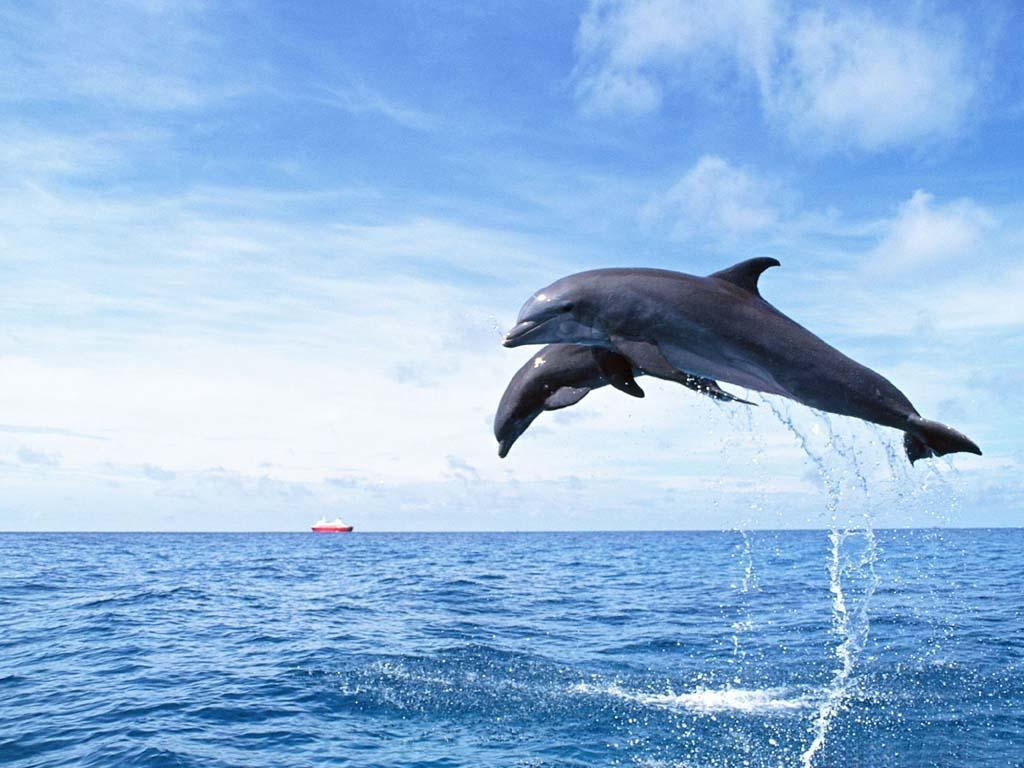fish: (502, 256, 985, 466), (488, 331, 755, 463)
